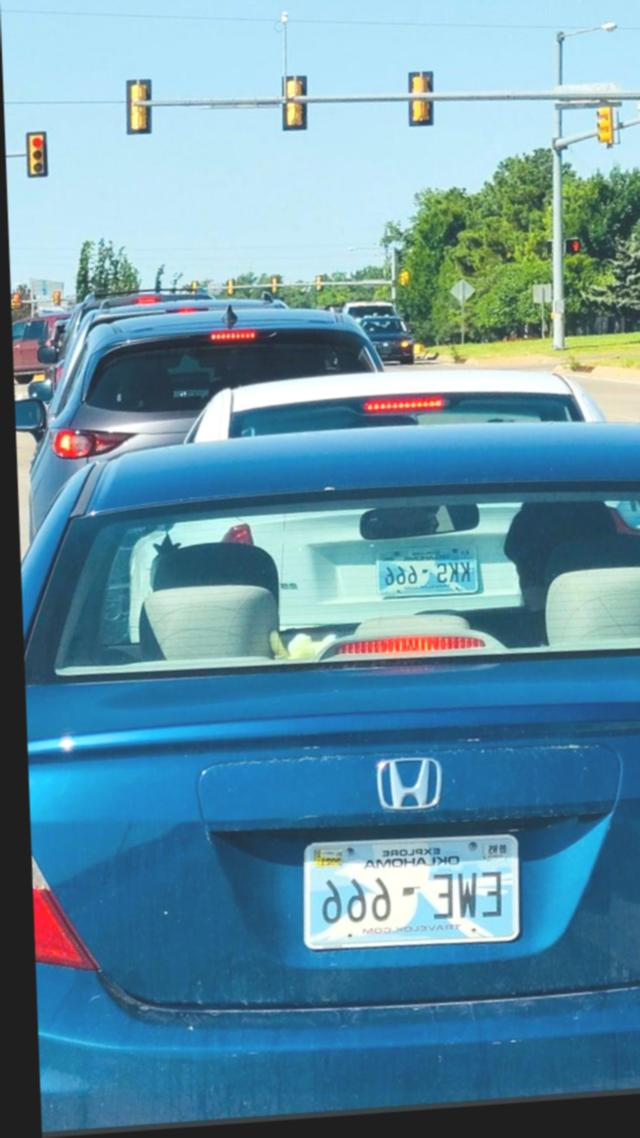License_Plate: (289, 813, 541, 973)
